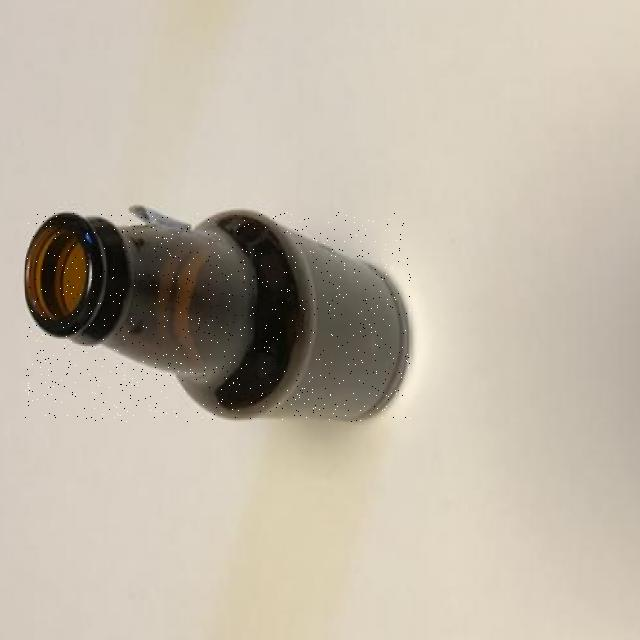glass: (26, 212, 411, 421)
